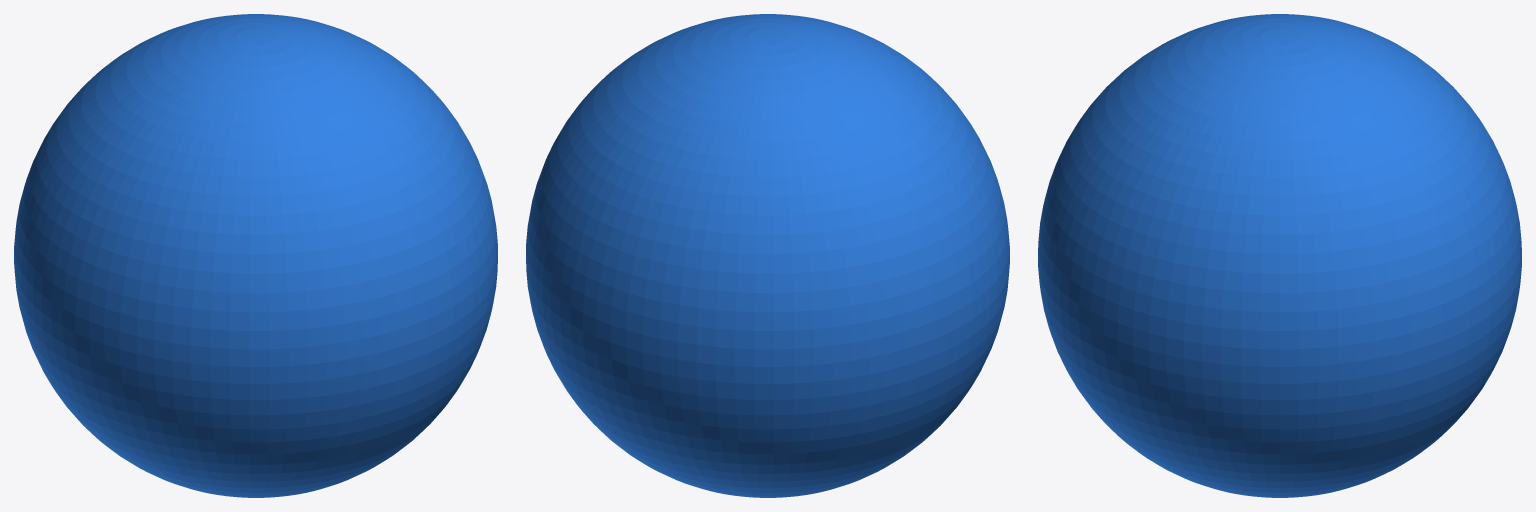
File: ball_blue.dae
3 views of the same model, side by side, from view 1: azimuth 30°, elevation 25°; view 2: azimuth 150°, elevation 25°; view 3: azimuth 270°, elevation 25° (orthographic).
Parts seen in each view (by area): view 1: Abu2024_field - Ball_blue-1; view 2: Abu2024_field - Ball_blue-1; view 3: Abu2024_field - Ball_blue-1.
Boxes of the visible parts, bbox=[...] form: Abu2024_field - Ball_blue-1: bbox=[14, 14, 497, 497]; Abu2024_field - Ball_blue-1: bbox=[526, 14, 1009, 497]; Abu2024_field - Ball_blue-1: bbox=[1038, 14, 1521, 497].
Size of the model in its own units: 0.1898 by 0.1898 by 0.19.
